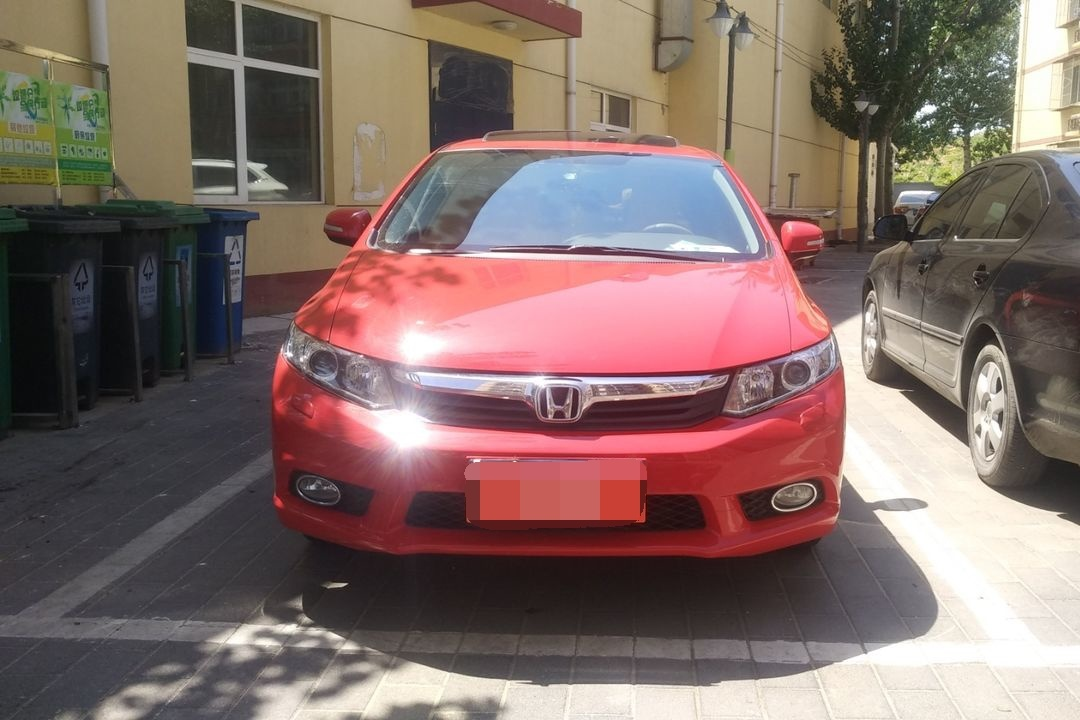family sedan: (265, 103, 862, 588)
